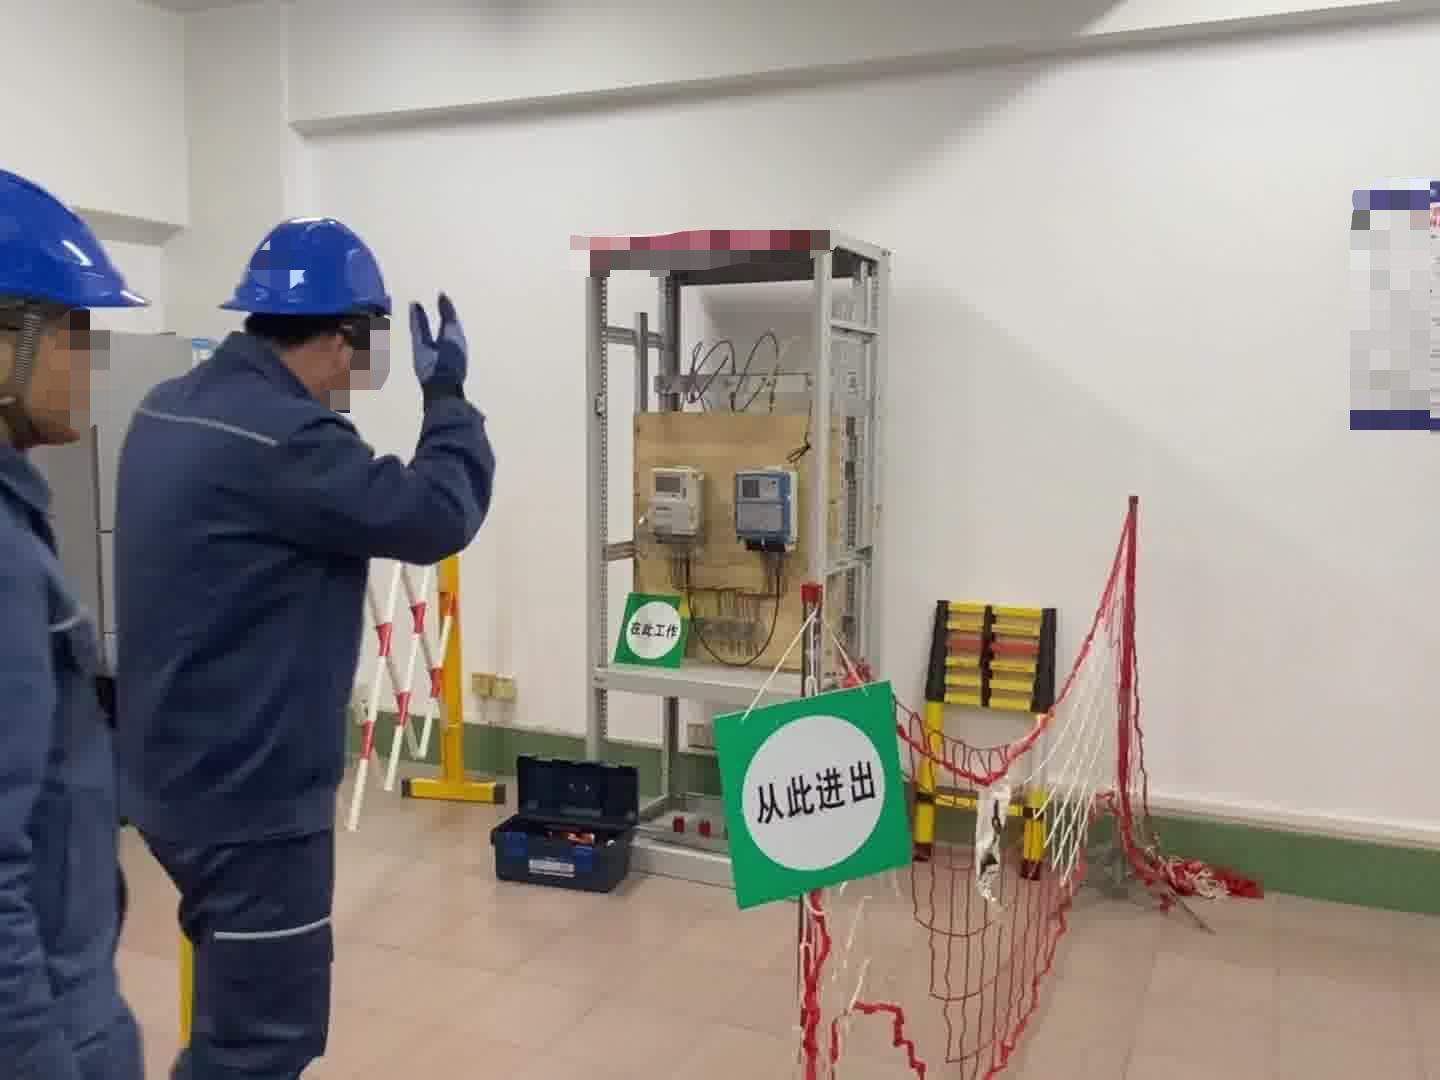halt: (3, 155, 144, 452)
inear: (3, 307, 56, 416)
noear: (319, 323, 357, 387)
